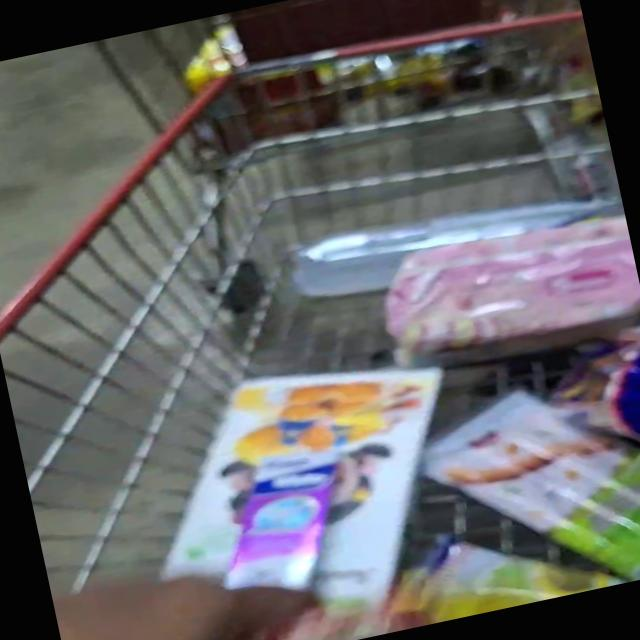Tisu: (229, 336, 456, 464), (123, 362, 306, 472), (334, 432, 434, 598)
Ubat Gigi: (232, 446, 352, 552), (234, 524, 329, 602)
